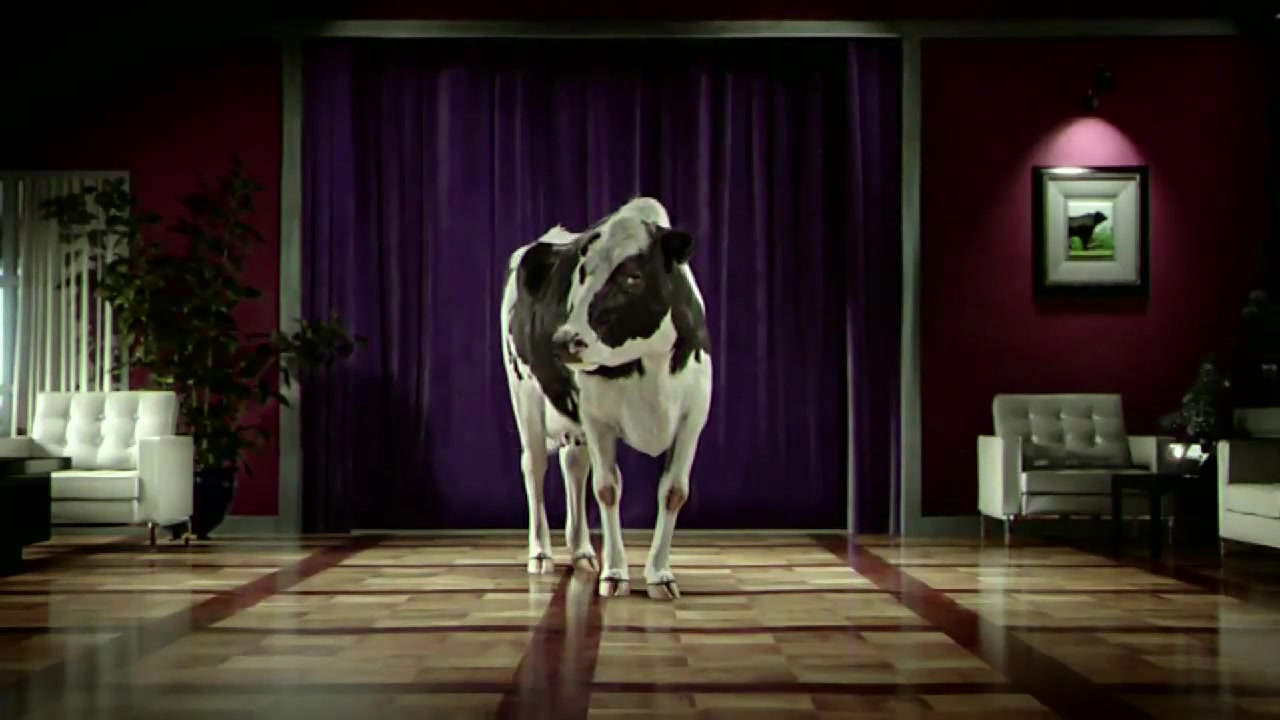cow: (495, 197, 723, 608)
